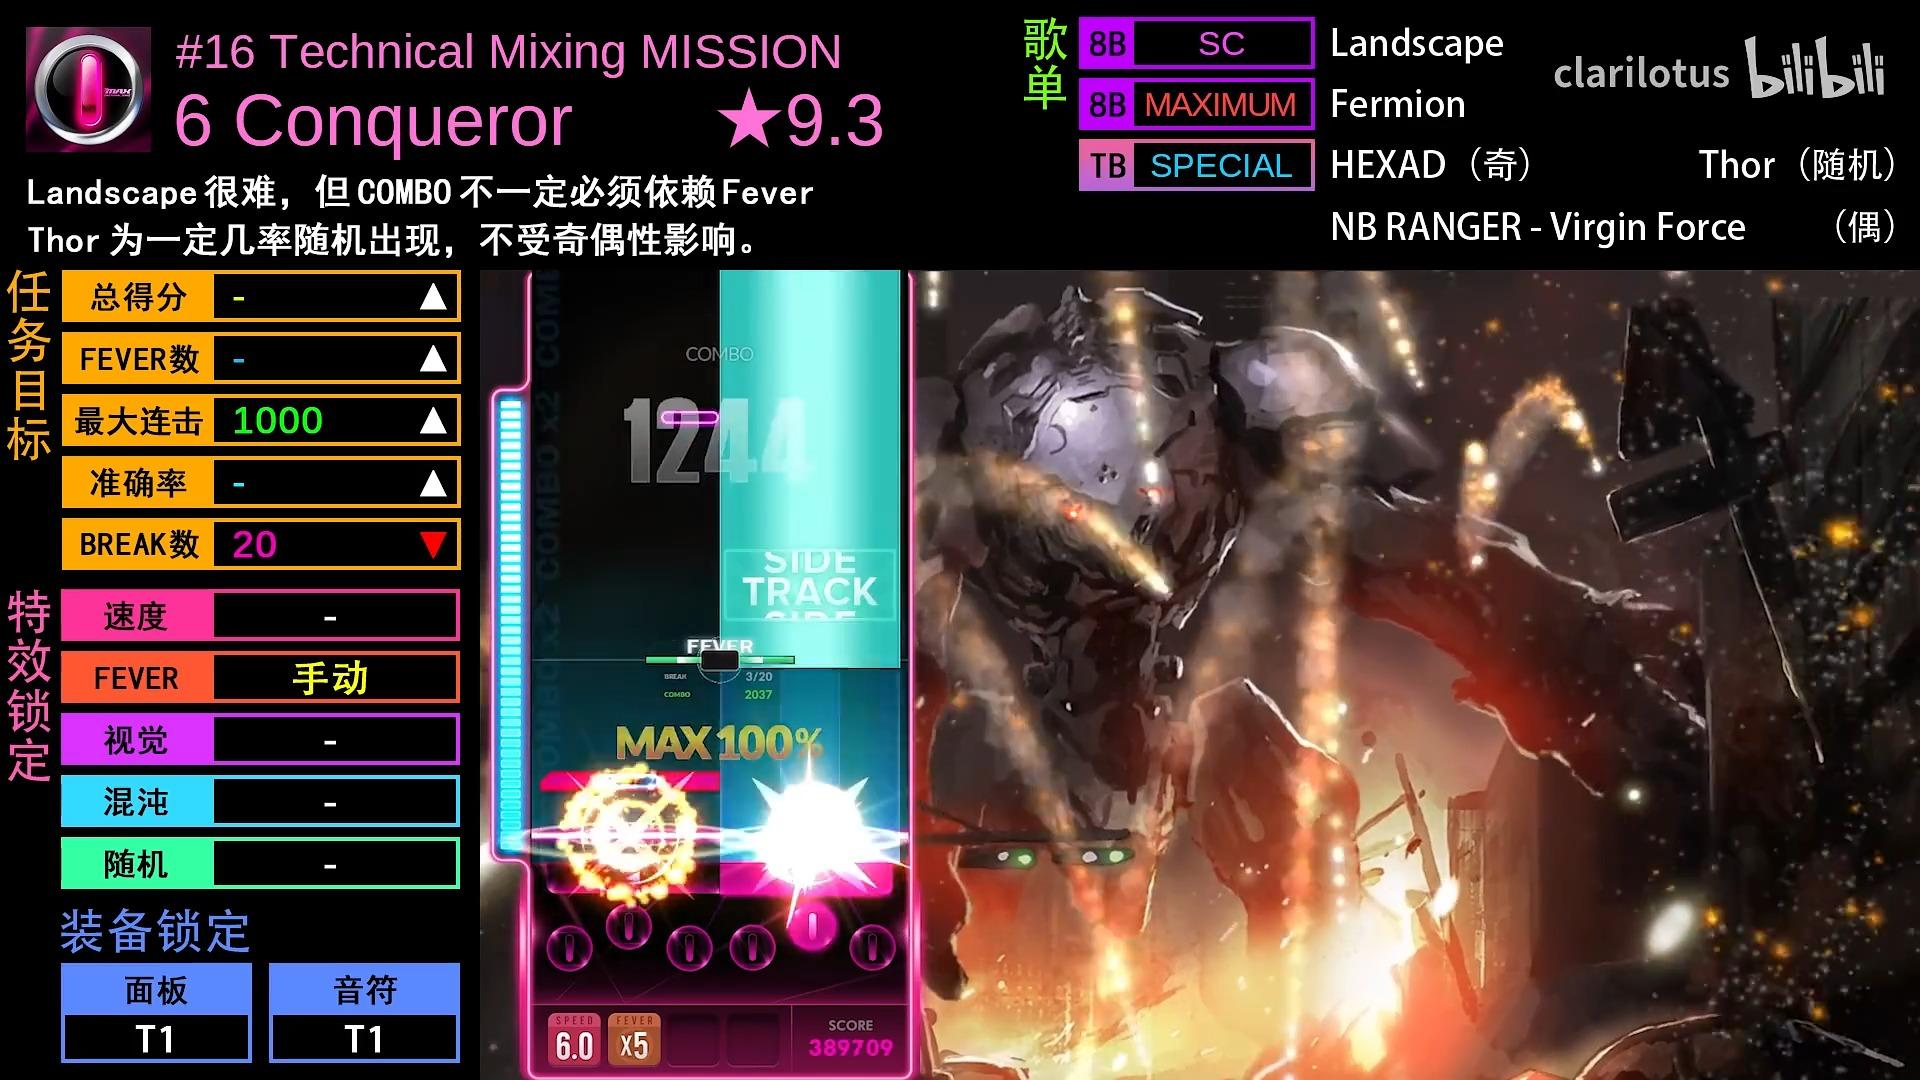note: (596, 773, 658, 791), (659, 410, 720, 426)
side-start: (719, 646, 901, 669)
xnote: (541, 771, 720, 790)
